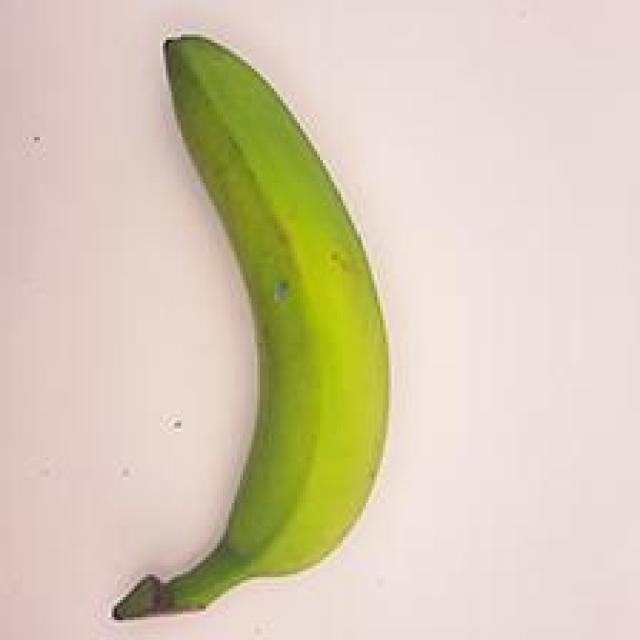Unripe: (82, 23, 406, 634)
